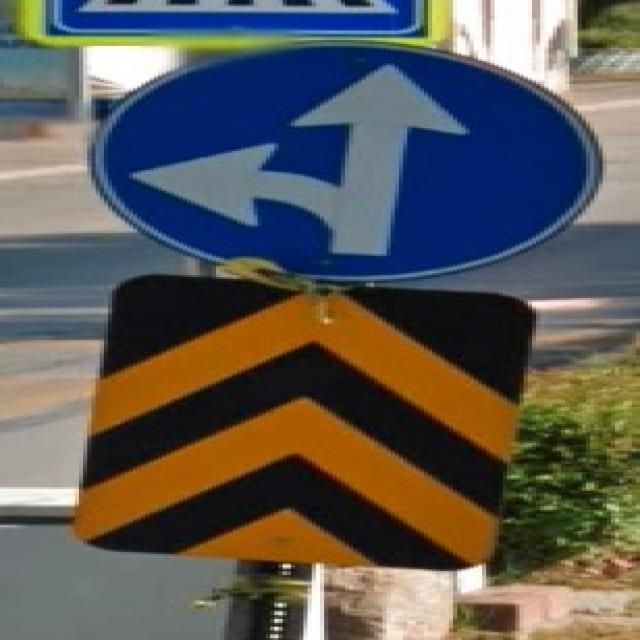Straight or Left: (86, 42, 610, 281)
